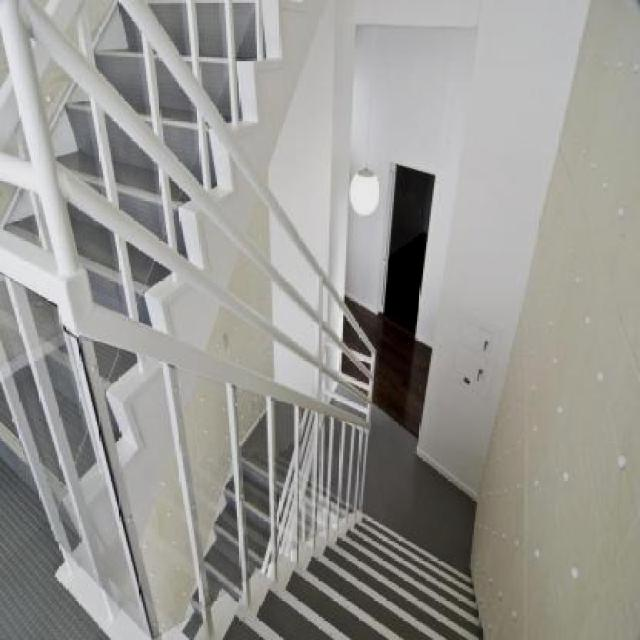stair: (1, 0, 268, 540), (182, 452, 486, 640)
